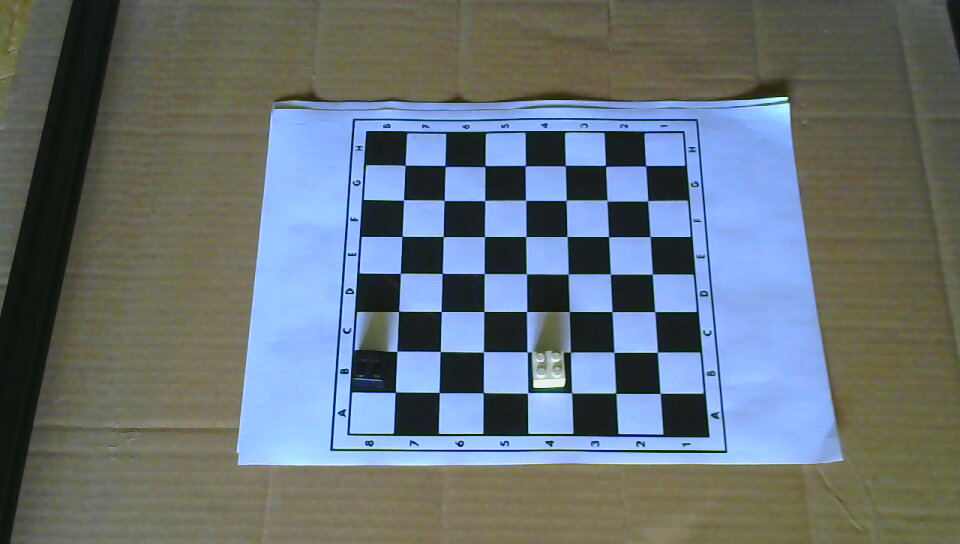bp: (350, 346, 388, 390)
wp: (528, 347, 567, 390)
